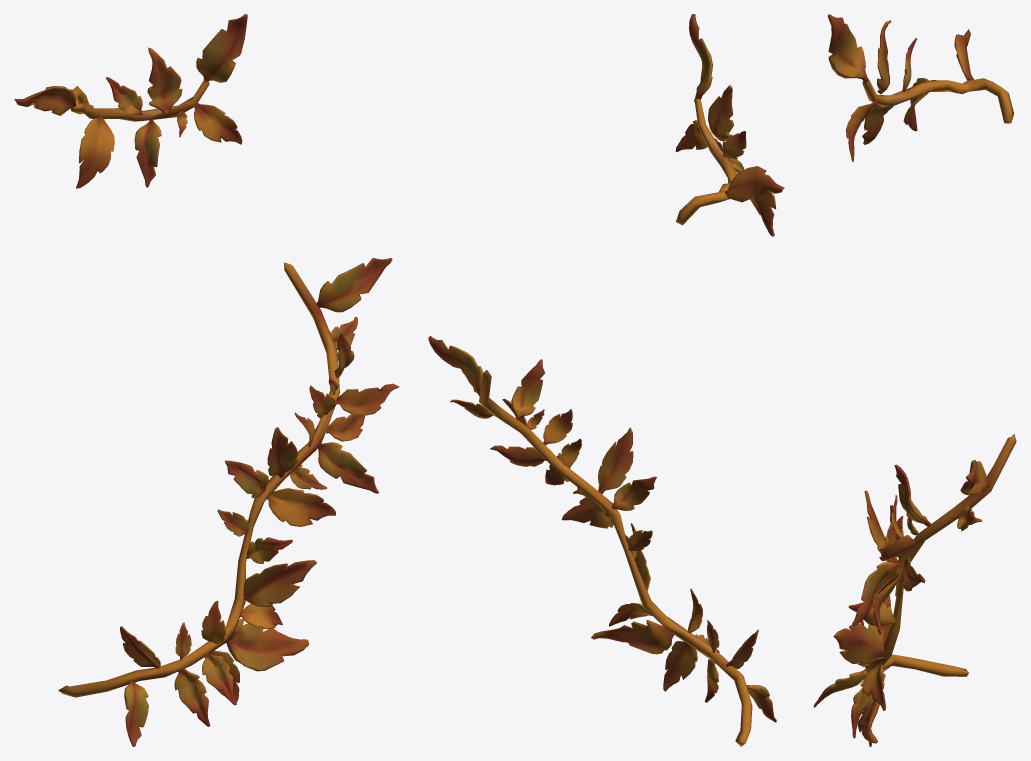
Rendered from crow_leaf 1.fbx.
3 views of the same model, side by side, from view 1: azimuth 30°, elevation 25°; view 2: azimuth 150°, elevation 25°; view 3: azimuth 270°, elevation 25° (orthographic). The views are drawn at different scales.
Parts seen in each view (by area): view 1: crow_lo2_2; view 2: crow_lo2_2; view 3: crow_lo2_2.
Part boxes in pixels (x1,y1,x2,y2): crow_lo2_2: (14, 14, 399, 746); crow_lo2_2: (428, 14, 784, 746); crow_lo2_2: (813, 14, 1016, 746).
Size of the model in its own units: 0.9 by 1.63 by 0.4066.
